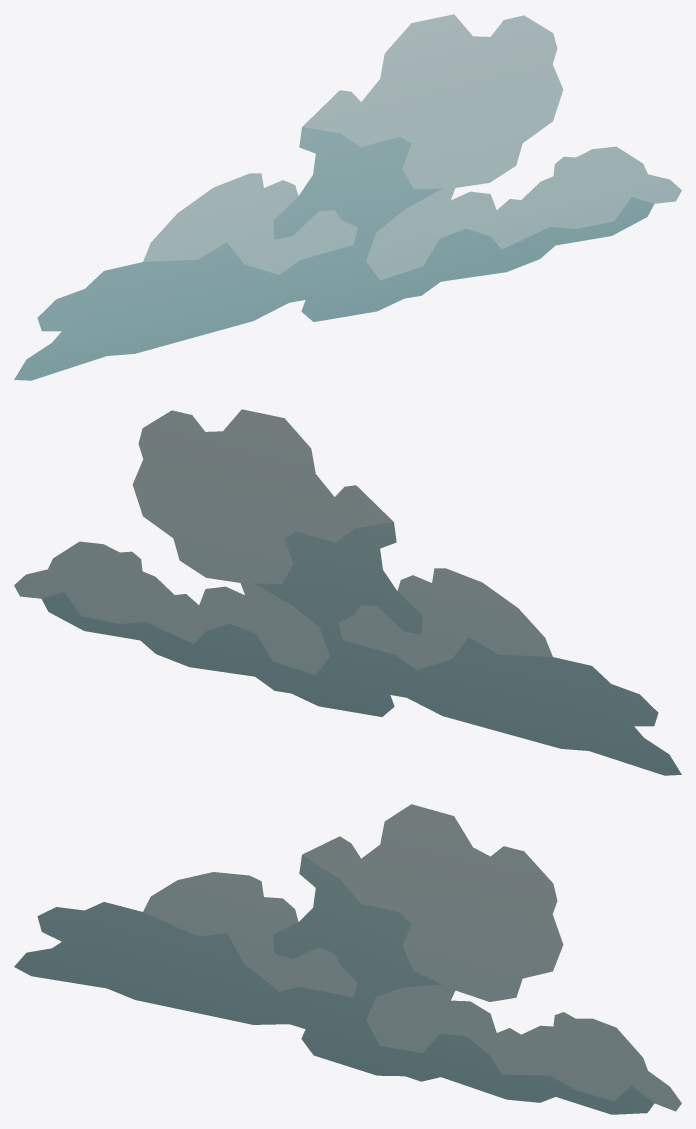
File: AP_Cloud_001.FBX
3 renders of one model, top to bottom at view 1: azimuth 30°, elevation 25°; view 2: azimuth 150°, elevation 25°; view 3: azimuth 330°, elevation 25°, orthographic.
Visible parts, largest first — view 1: AP_Cloud_001; view 2: AP_Cloud_001; view 3: AP_Cloud_001.
Part boxes in pixels (x1,y1,x2,y2): AP_Cloud_001: (14, 14, 681, 380); AP_Cloud_001: (14, 409, 681, 775); AP_Cloud_001: (14, 804, 681, 1114).
Size of the model in its own units: 360 by 144 by 2.36e-05.
